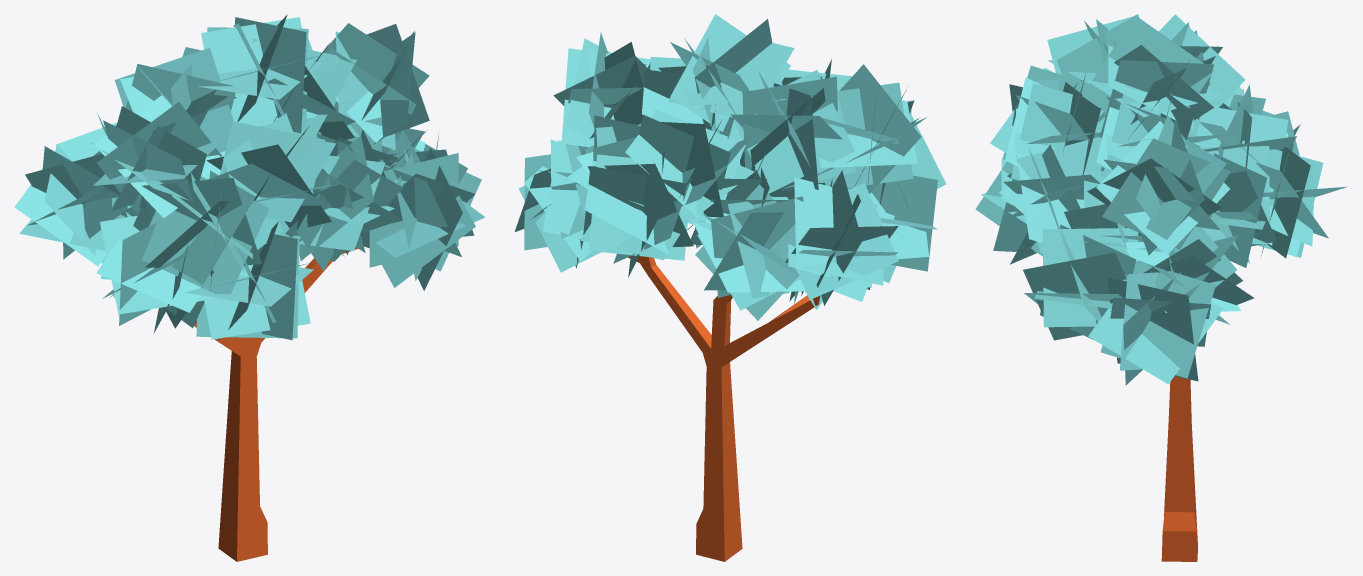
Rendered from treeD.glb.
The picture shows the model from 3 angles, left to right: view 1: azimuth 30°, elevation 25°; view 2: azimuth 150°, elevation 25°; view 3: azimuth 270°, elevation 25°; orthographic projection. The views are drawn at different scales.
Parts seen in each view (by area): view 1: Plane.046, Plane.056, Plane.067, Plane.063, Plane.044, Cube.004, Plane.061, Plane.059, Plane.051, Plane.055, Plane.054, Plane.049 (+5 smaller); view 2: Cube.004, Plane.049, Plane.051, Plane.047, Plane.053, Plane.063, Plane.057, Plane.056, Plane.061, Plane.054, Plane.058, Plane.064 (+6 smaller); view 3: Plane.061, Plane.058, Plane.067, Plane.063, Plane.055, Plane.044, Plane.066, Cube.004, Plane.047, Plane.064, Plane.057, Plane.048 (+6 smaller).
Part boxes in pixels (box(x1,y1,x2,y2)): Plane.046: box(141, 168, 269, 294); Plane.056: box(90, 95, 224, 218); Plane.067: box(360, 147, 485, 290); Plane.063: box(197, 14, 323, 133); Plane.044: box(206, 113, 338, 249); Cube.004: box(194, 247, 358, 561); Plane.061: box(324, 23, 429, 150); Plane.059: box(185, 221, 314, 340); Plane.051: box(14, 144, 130, 266); Plane.055: box(285, 135, 403, 270); Plane.054: box(96, 208, 217, 333); Plane.049: box(114, 48, 236, 156); Cube.004: box(628, 256, 820, 561); Plane.049: box(730, 70, 855, 193); Plane.051: box(785, 170, 898, 305); Plane.047: box(580, 149, 695, 277); Plane.053: box(693, 184, 805, 320); Plane.063: box(668, 14, 794, 140); Plane.057: box(625, 109, 754, 231); Plane.056: box(812, 64, 926, 193); Plane.061: box(553, 32, 650, 147); Plane.054: box(847, 175, 937, 283); Plane.058: box(514, 154, 601, 272); Plane.064: box(538, 139, 588, 241); Plane.061: box(1087, 115, 1230, 255); Plane.058: box(1088, 261, 1223, 385); Plane.067: box(1023, 225, 1138, 340); Plane.063: box(1082, 15, 1222, 138); Plane.055: box(999, 136, 1104, 253); Plane.044: box(1005, 72, 1104, 180); Plane.066: box(1192, 143, 1277, 267); Cube.004: box(1161, 376, 1197, 561); Plane.047: box(1242, 129, 1347, 258); Plane.064: box(1117, 226, 1254, 324); Plane.057: box(1194, 84, 1296, 199); Plane.048: box(1096, 85, 1229, 180).
Bounding box in the file's own units: 4.78 × 5.93 × 3.81.
